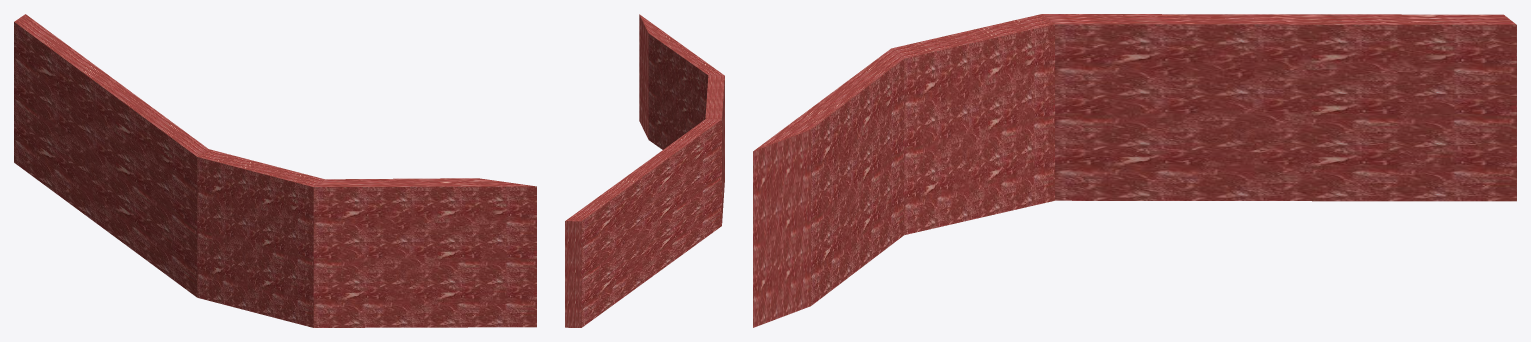
Rendered from Lgutter.obj.
The picture shows the model from 3 angles, left to right: view 1: azimuth 30°, elevation 25°; view 2: azimuth 150°, elevation 25°; view 3: azimuth 270°, elevation 25°; orthographic projection. The views are drawn at different scales.
Parts seen in each view (by area): view 1: Plane; view 2: Plane; view 3: Plane.
Boxes of the visible parts, x1=… form: Plane: x1=14, y1=14, x2=536, y2=327; Plane: x1=565, y1=14, x2=724, y2=327; Plane: x1=753, y1=14, x2=1516, y2=327.
Size of the model in its own units: 1.9 by 1.14 by 4.46.
